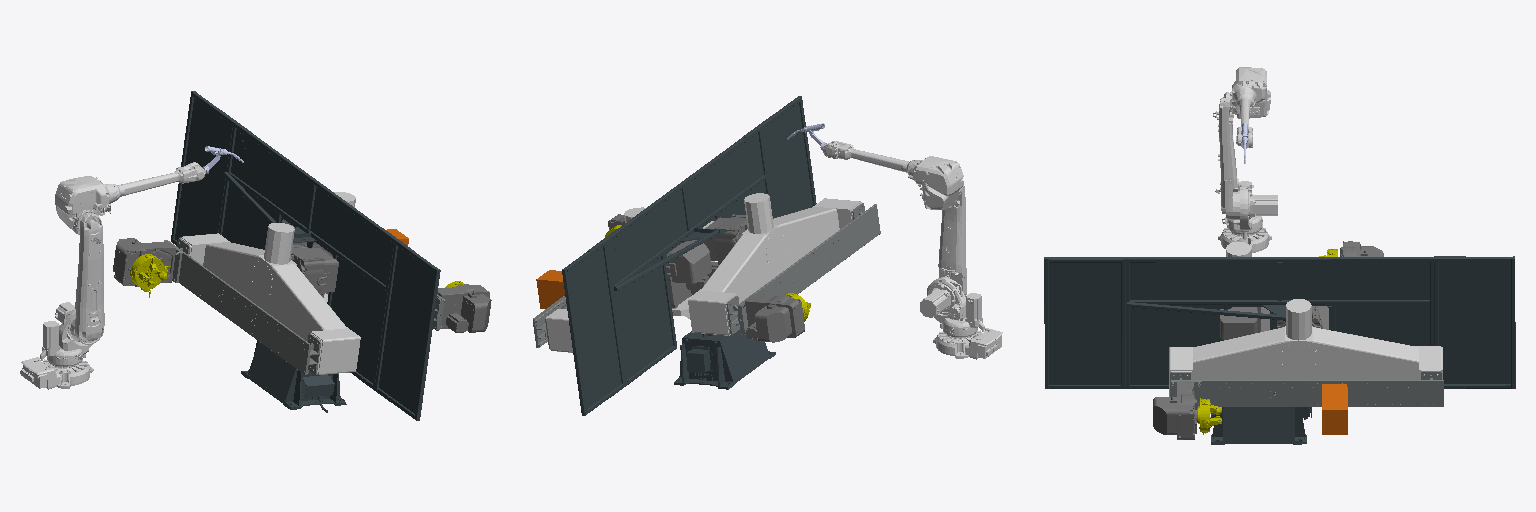
robot.urdf — monarc_irb4600_irbp_d600:
<?xml version="1.0" ?>
<robot name="monarc_irb4600_irbp_d600">
  <!-- MONARC cell: ABB IRB 4600-20/2.50 + IRBP D600 L2000 D1200 (2 stations). Generated by build_meshes.py + build_urdf.py. Do not hand-edit; see tgs_urdf_from_robotstudio_v1.md for the provenance of every number. -->
  <link name="base"/>
  <link name="linear_rail"/>
  <link name="base_link">
    <visual>
      <origin xyz="0 0 0" rpy="0 0 0"/>
      <geometry>
        <mesh filename="meshes/abb_base_m.stl"/>
      </geometry>
      <material name="base_link_material">
        <color rgba="0.8431 0.8431 0.8431 1.0"/>
      </material>
    </visual>
    <collision>
      <origin xyz="0 0 0" rpy="0 0 0"/>
      <geometry>
        <mesh filename="meshes/abb_base_m.stl"/>
      </geometry>
    </collision>
  </link>
  <link name="link_1">
    <visual>
      <origin xyz="0 0 0" rpy="0 0 0"/>
      <geometry>
        <mesh filename="meshes/abb_link_1_m.stl"/>
      </geometry>
      <material name="link_1_material">
        <color rgba="0.8431 0.8431 0.8431 1.0"/>
      </material>
    </visual>
    <collision>
      <origin xyz="0 0 0" rpy="0 0 0"/>
      <geometry>
        <mesh filename="meshes/abb_link_1_m.stl"/>
      </geometry>
    </collision>
  </link>
  <link name="link_2">
    <visual>
      <origin xyz="0 0 0" rpy="0 0 0"/>
      <geometry>
        <mesh filename="meshes/abb_link_2_m.stl"/>
      </geometry>
      <material name="link_2_material">
        <color rgba="0.8431 0.8431 0.8431 1.0"/>
      </material>
    </visual>
    <collision>
      <origin xyz="0 0 0" rpy="0 0 0"/>
      <geometry>
        <mesh filename="meshes/abb_link_2_m.stl"/>
      </geometry>
    </collision>
  </link>
  <link name="link_3">
    <visual>
      <origin xyz="0 0 0" rpy="0 0 0"/>
      <geometry>
        <mesh filename="meshes/abb_link_3_m.stl"/>
      </geometry>
      <material name="link_3_material">
        <color rgba="0.8431 0.8431 0.8431 1.0"/>
      </material>
    </visual>
    <collision>
      <origin xyz="0 0 0" rpy="0 0 0"/>
      <geometry>
        <mesh filename="meshes/abb_link_3_m.stl"/>
      </geometry>
    </collision>
  </link>
  <link name="link_4">
    <visual>
      <origin xyz="0 0 0" rpy="0 0 0"/>
      <geometry>
        <mesh filename="meshes/abb_link_4_m.stl"/>
      </geometry>
      <material name="link_4_material">
        <color rgba="0.8431 0.8431 0.8431 1.0"/>
      </material>
    </visual>
    <collision>
      <origin xyz="0 0 0" rpy="0 0 0"/>
      <geometry>
        <mesh filename="meshes/abb_link_4_m.stl"/>
      </geometry>
    </collision>
  </link>
  <link name="link_5">
    <visual>
      <origin xyz="0 0 0" rpy="0 0 0"/>
      <geometry>
        <mesh filename="meshes/abb_link_5_m.stl"/>
      </geometry>
      <material name="link_5_material">
        <color rgba="0.8431 0.8431 0.8431 1.0"/>
      </material>
    </visual>
    <collision>
      <origin xyz="0 0 0" rpy="0 0 0"/>
      <geometry>
        <mesh filename="meshes/abb_link_5_m.stl"/>
      </geometry>
    </collision>
  </link>
  <link name="link_6">
    <visual>
      <origin xyz="0 0 0" rpy="0 0 0"/>
      <geometry>
        <mesh filename="meshes/abb_link_6_m.stl"/>
      </geometry>
      <material name="link_6_material">
        <color rgba="0.8431 0.8431 0.8431 1.0"/>
      </material>
    </visual>
    <collision>
      <origin xyz="0 0 0" rpy="0 0 0"/>
      <geometry>
        <mesh filename="meshes/abb_link_6_m.stl"/>
      </geometry>
    </collision>
  </link>
  <link name="flange"/>
  <link name="tool0"/>
  <link name="torch">
    <visual>
      <origin xyz="0 0 0" rpy="0 0 0"/>
      <geometry>
        <mesh filename="meshes/torch_m.stl"/>
      </geometry>
      <material name="torch_material">
        <color rgba="0.7922 0.8196 0.9333 1.0"/>
      </material>
    </visual>
    <collision>
      <origin xyz="0 0 0" rpy="0 0 0"/>
      <geometry>
        <mesh filename="meshes/torch_m.stl"/>
      </geometry>
    </collision>
  </link>
  <link name="tcp_torch"/>
  <link name="positioner_base">
    <visual>
      <origin xyz="0 0 0" rpy="0 0 0"/>
      <geometry>
        <mesh filename="meshes/pos_interchange_base_m.stl"/>
      </geometry>
      <material name="positioner_base_material">
        <color rgba="0.2824 0.3294 0.349 1.0"/>
      </material>
    </visual>
    <collision>
      <origin xyz="0 0 0" rpy="0 0 0"/>
      <geometry>
        <mesh filename="meshes/pos_interchange_base_m.stl"/>
      </geometry>
    </collision>
  </link>
  <link name="positioner_index"/>
  <link name="pos_turntable">
    <visual>
      <origin xyz="0 0 0" rpy="0 0 0"/>
      <geometry>
        <mesh filename="meshes/pos_turntable_m.stl"/>
      </geometry>
      <material name="pos_turntable_material">
        <color rgba="0.8431 0.8431 0.8431 1.0"/>
      </material>
    </visual>
    <collision>
      <origin xyz="0 0 0" rpy="0 0 0"/>
      <geometry>
        <mesh filename="meshes/pos_turntable_m.stl"/>
      </geometry>
    </collision>
  </link>
  <link name="pos_bearing_stn1">
    <visual>
      <origin xyz="0 0 0" rpy="0 0 0"/>
      <geometry>
        <mesh filename="meshes/pos_bearing_stn1_m.stl"/>
      </geometry>
      <material name="pos_bearing_stn1_material">
        <color rgba="0.498 0.498 0.498 1.0"/>
      </material>
    </visual>
    <collision>
      <origin xyz="0 0 0" rpy="0 0 0"/>
      <geometry>
        <mesh filename="meshes/pos_bearing_stn1_m.stl"/>
      </geometry>
    </collision>
  </link>
  <link name="pos_bearing_stn2">
    <visual>
      <origin xyz="0 0 0" rpy="0 0 0"/>
      <geometry>
        <mesh filename="meshes/pos_bearing_stn2_m.stl"/>
      </geometry>
      <material name="pos_bearing_stn2_material">
        <color rgba="0.498 0.498 0.498 1.0"/>
      </material>
    </visual>
    <collision>
      <origin xyz="0 0 0" rpy="0 0 0"/>
      <geometry>
        <mesh filename="meshes/pos_bearing_stn2_m.stl"/>
      </geometry>
    </collision>
  </link>
  <link name="pos_cover">
    <visual>
      <origin xyz="0 0 0" rpy="0 0 0"/>
      <geometry>
        <mesh filename="meshes/pos_cover_m.stl"/>
      </geometry>
      <material name="pos_cover_material">
        <color rgba="0.2824 0.3294 0.349 1.0"/>
      </material>
    </visual>
    <collision>
      <origin xyz="0 0 0" rpy="0 0 0"/>
      <geometry>
        <mesh filename="meshes/pos_cover_m.stl"/>
      </geometry>
    </collision>
  </link>
  <link name="stn1_tilt"/>
  <link name="stn1_arm">
    <visual>
      <origin xyz="0 0 0" rpy="0 0 0"/>
      <geometry>
        <mesh filename="meshes/stn1_arm_m.stl"/>
      </geometry>
      <material name="stn1_arm_material">
        <color rgba="0.8431 0.8431 0.8431 1.0"/>
      </material>
    </visual>
    <collision>
      <origin xyz="0 0 0" rpy="0 0 0"/>
      <geometry>
        <mesh filename="meshes/stn1_arm_m.stl"/>
      </geometry>
    </collision>
  </link>
  <link name="stn1_bed">
    <visual>
      <origin xyz="0 0 0" rpy="0 0 0"/>
      <geometry>
        <mesh filename="meshes/stn1_bed_m.stl"/>
      </geometry>
      <material name="stn1_bed_material">
        <color rgba="0.5294 0.549 0.549 1.0"/>
      </material>
    </visual>
    <collision>
      <origin xyz="0 0 0" rpy="0 0 0"/>
      <geometry>
        <mesh filename="meshes/stn1_bed_m.stl"/>
      </geometry>
    </collision>
  </link>
  <link name="stn1_rotate_drive">
    <visual>
      <origin xyz="0 0 0" rpy="0 0 0"/>
      <geometry>
        <mesh filename="meshes/stn1_rotate_drive_m.stl"/>
      </geometry>
      <material name="stn1_rotate_drive_material">
        <color rgba="0.498 0.498 0.498 1.0"/>
      </material>
    </visual>
    <collision>
      <origin xyz="0 0 0" rpy="0 0 0"/>
      <geometry>
        <mesh filename="meshes/stn1_rotate_drive_m.stl"/>
      </geometry>
    </collision>
  </link>
  <link name="stn1_plate">
    <visual>
      <origin xyz="0 0 0" rpy="0 0 0"/>
      <geometry>
        <mesh filename="meshes/stn1_headstock_m.stl"/>
      </geometry>
      <material name="stn1_plate_material">
        <color rgba="0.7529 0.7529 0 1.0"/>
      </material>
    </visual>
    <collision>
      <origin xyz="0 0 0" rpy="0 0 0"/>
      <geometry>
        <mesh filename="meshes/stn1_headstock_m.stl"/>
      </geometry>
    </collision>
  </link>
  <link name="stn2_tilt"/>
  <link name="stn2_arm">
    <visual>
      <origin xyz="0 0 0" rpy="0 0 0"/>
      <geometry>
        <mesh filename="meshes/stn2_arm_m.stl"/>
      </geometry>
      <material name="stn2_arm_material">
        <color rgba="0.8431 0.8431 0.8431 1.0"/>
      </material>
    </visual>
    <collision>
      <origin xyz="0 0 0" rpy="0 0 0"/>
      <geometry>
        <mesh filename="meshes/stn2_arm_m.stl"/>
      </geometry>
    </collision>
  </link>
  <link name="stn2_bed">
    <visual>
      <origin xyz="0 0 0" rpy="0 0 0"/>
      <geometry>
        <mesh filename="meshes/stn2_bed_m.stl"/>
      </geometry>
      <material name="stn2_bed_material">
        <color rgba="0.5294 0.549 0.549 1.0"/>
      </material>
    </visual>
    <collision>
      <origin xyz="0 0 0" rpy="0 0 0"/>
      <geometry>
        <mesh filename="meshes/stn2_bed_m.stl"/>
      </geometry>
    </collision>
  </link>
  <link name="stn2_rotate_drive">
    <visual>
      <origin xyz="0 0 0" rpy="0 0 0"/>
      <geometry>
        <mesh filename="meshes/stn2_rotate_drive_m.stl"/>
      </geometry>
      <material name="stn2_rotate_drive_material">
        <color rgba="0.498 0.498 0.498 1.0"/>
      </material>
    </visual>
    <collision>
      <origin xyz="0 0 0" rpy="0 0 0"/>
      <geometry>
        <mesh filename="meshes/stn2_rotate_drive_m.stl"/>
      </geometry>
    </collision>
  </link>
  <link name="stn2_plate">
    <visual>
      <origin xyz="0 0 0" rpy="0 0 0"/>
      <geometry>
        <mesh filename="meshes/stn2_headstock_m.stl"/>
      </geometry>
      <material name="stn2_plate_material">
        <color rgba="0.7529 0.7529 0 1.0"/>
      </material>
    </visual>
    <collision>
      <origin xyz="0 0 0" rpy="0 0 0"/>
      <geometry>
        <mesh filename="meshes/stn2_headstock_m.stl"/>
      </geometry>
    </collision>
  </link>
  <link name="stn1_tailstock">
    <visual>
      <origin xyz="0 0 0" rpy="0 0 0"/>
      <geometry>
        <mesh filename="meshes/stn1_tailstock_m.stl"/>
      </geometry>
      <material name="stn1_tailstock_material">
        <color rgba="0.85 0.45 0.1 1.0"/>
      </material>
    </visual>
    <collision>
      <origin xyz="0 0 0" rpy="0 0 0"/>
      <geometry>
        <mesh filename="meshes/stn1_tailstock_m.stl"/>
      </geometry>
    </collision>
  </link>
  <link name="stn2_tailstock">
    <visual>
      <origin xyz="0 0 0" rpy="0 0 0"/>
      <geometry>
        <mesh filename="meshes/stn2_tailstock_m.stl"/>
      </geometry>
      <material name="stn2_tailstock_material">
        <color rgba="0.85 0.45 0.1 1.0"/>
      </material>
    </visual>
    <collision>
      <origin xyz="0 0 0" rpy="0 0 0"/>
      <geometry>
        <mesh filename="meshes/stn2_tailstock_m.stl"/>
      </geometry>
    </collision>
  </link>
  <joint name="linear_rail_joint" type="prismatic">
    <origin xyz="0 0 0" rpy="0 0 0"/>
    <parent link="base"/>
    <child link="linear_rail"/>
    <axis xyz="0 1 0"/>
    <limit lower="0" upper="0" effort="0" velocity="3.141593"/>
  </joint>
  <joint name="linear_rail_to_base_link" type="fixed">
    <origin xyz="0 0 0" rpy="0 0 0"/>
    <parent link="linear_rail"/>
    <child link="base_link"/>
  </joint>
  <joint name="joint_1" type="revolute">
    <origin xyz="0 0 0.495" rpy="0 0 0"/>
    <parent link="base_link"/>
    <child link="link_1"/>
    <axis xyz="0 0 1"/>
    <limit lower="-3.14159265" upper="3.14159265" effort="0" velocity="3.141593"/>
  </joint>
  <joint name="joint_2" type="revolute">
    <origin xyz="0.175 0 0" rpy="-1.57079633 -1.57079633 0"/>
    <parent link="link_1"/>
    <child link="link_2"/>
    <axis xyz="0 0 1"/>
    <limit lower="-1.57079633" upper="2.61799388" effort="0" velocity="3.141593"/>
  </joint>
  <joint name="joint_3" type="revolute">
    <origin xyz="1.095 0 0" rpy="0 0 0"/>
    <parent link="link_2"/>
    <child link="link_3"/>
    <axis xyz="0 0 1"/>
    <limit lower="-3.14159265" upper="1.30899694" effort="0" velocity="3.141593"/>
  </joint>
  <joint name="joint_4" type="revolute">
    <origin xyz="0.175 1.2305 0" rpy="-1.57079633 0 0"/>
    <parent link="link_3"/>
    <child link="link_4"/>
    <axis xyz="0 0 1"/>
    <limit lower="-6.98131701" upper="6.98131701" effort="0" velocity="3.141593"/>
  </joint>
  <joint name="joint_5" type="revolute">
    <origin xyz="0 0 0" rpy="-1.57079633 0 3.14159265"/>
    <parent link="link_4"/>
    <child link="link_5"/>
    <axis xyz="0 0 1"/>
    <limit lower="-2.0943951" upper="2.0943951" effort="0" velocity="3.141593"/>
  </joint>
  <joint name="joint_6" type="revolute">
    <origin xyz="0 0 0" rpy="1.57079633 0 0"/>
    <parent link="link_5"/>
    <child link="link_6"/>
    <axis xyz="0 0 1"/>
    <limit lower="-6.98131701" upper="6.98131701" effort="0" velocity="3.141593"/>
  </joint>
  <joint name="link_6-flange" type="fixed">
    <origin xyz="0 0 0.085" rpy="0 0 0"/>
    <parent link="link_6"/>
    <child link="flange"/>
  </joint>
  <joint name="flange-tool0" type="fixed">
    <origin xyz="0 0 0" rpy="0 0 0"/>
    <parent link="flange"/>
    <child link="tool0"/>
  </joint>
  <joint name="tool0-torch" type="fixed">
    <origin xyz="0 0 0" rpy="0 0 0"/>
    <parent link="tool0"/>
    <child link="torch"/>
  </joint>
  <joint name="tool0-tcp_torch" type="fixed">
    <origin xyz="0.0272 0 0.4344" rpy="0 0.785398163 0"/>
    <parent link="tool0"/>
    <child link="tcp_torch"/>
  </joint>
  <joint name="base-positioner_base" type="fixed">
    <origin xyz="1.222672 0.794993 -0.576539" rpy="0.000587 0.147569 0.002287"/>
    <parent link="base"/>
    <child link="positioner_base"/>
  </joint>
  <joint name="positioner_index_joint" type="fixed">
    <origin xyz="1.31 -0.568 1.25" rpy="0 -0 1.57079633"/>
    <parent link="positioner_base"/>
    <child link="positioner_index"/>
  </joint>
  <joint name="stn1_tilt_joint" type="fixed">
    <origin xyz="0.288 -1.31 0" rpy="1.57079633 1.57079633 0"/>
    <parent link="positioner_index"/>
    <child link="stn1_tilt"/>
  </joint>
  <joint name="stn1_plate_joint" type="fixed">
    <origin xyz="0.25 0 0" rpy="-1.57079633 -0 0"/>
    <parent link="stn1_tilt"/>
    <child link="stn1_plate"/>
  </joint>
  <joint name="stn2_tilt_joint" type="revolute">
    <origin xyz="-0.288 1.309 0" rpy="-1.57079633 1.57079633 0"/>
    <parent link="positioner_index"/>
    <child link="stn2_tilt"/>
    <axis xyz="0 0 1"/>
    <limit lower="-3.15904595" upper="3.15904595" effort="0" velocity="3.141593"/>
  </joint>
  <joint name="stn2_plate_joint" type="revolute">
    <origin xyz="0.25 0 0" rpy="-1.57079633 0 0"/>
    <parent link="stn2_tilt"/>
    <child link="stn2_plate"/>
    <axis xyz="0 0 1"/>
    <limit lower="-20" upper="20" effort="0" velocity="3.141593"/>
  </joint>
  <joint name="stn1_tailstock_joint" type="fixed">
    <origin xyz="0.25 0.344 0" rpy="0 0 0"/>
    <parent link="stn1_tilt"/>
    <child link="stn1_tailstock"/>
  </joint>
  <joint name="stn2_tailstock_joint" type="prismatic">
    <origin xyz="0.25 -0.856 0" rpy="0 0 0"/>
    <parent link="stn2_tilt"/>
    <child link="stn2_tailstock"/>
    <axis xyz="0 1 0"/>
    <limit lower="-2.5" upper="2.5" effort="0" velocity="3.141593"/>
  </joint>
  <joint name="positioner_index-pos_turntable" type="fixed">
    <origin xyz="0 0 0" rpy="0 0 0"/>
    <parent link="positioner_index"/>
    <child link="pos_turntable"/>
  </joint>
  <joint name="positioner_index-pos_bearing_stn1" type="fixed">
    <origin xyz="0 0 0" rpy="0 0 0"/>
    <parent link="positioner_index"/>
    <child link="pos_bearing_stn1"/>
  </joint>
  <joint name="positioner_index-pos_bearing_stn2" type="fixed">
    <origin xyz="0 0 0" rpy="0 0 0"/>
    <parent link="positioner_index"/>
    <child link="pos_bearing_stn2"/>
  </joint>
  <joint name="positioner_index-pos_cover" type="fixed">
    <origin xyz="0 0 0" rpy="0 0 0"/>
    <parent link="positioner_index"/>
    <child link="pos_cover"/>
  </joint>
  <joint name="stn1_tilt-stn1_arm" type="fixed">
    <origin xyz="0 0 0" rpy="0 0 0"/>
    <parent link="stn1_tilt"/>
    <child link="stn1_arm"/>
  </joint>
  <joint name="stn1_tilt-stn1_bed" type="fixed">
    <origin xyz="0 0 0" rpy="0 0 0"/>
    <parent link="stn1_tilt"/>
    <child link="stn1_bed"/>
  </joint>
  <joint name="stn1_tilt-stn1_rotate_drive" type="fixed">
    <origin xyz="0 0 0" rpy="0 0 0"/>
    <parent link="stn1_tilt"/>
    <child link="stn1_rotate_drive"/>
  </joint>
  <joint name="stn2_tilt-stn2_arm" type="fixed">
    <origin xyz="0 0 0" rpy="0 0 0"/>
    <parent link="stn2_tilt"/>
    <child link="stn2_arm"/>
  </joint>
  <joint name="stn2_tilt-stn2_bed" type="fixed">
    <origin xyz="0 0 0" rpy="0 0 0"/>
    <parent link="stn2_tilt"/>
    <child link="stn2_bed"/>
  </joint>
  <joint name="stn2_tilt-stn2_rotate_drive" type="fixed">
    <origin xyz="0 0 0" rpy="0 0 0"/>
    <parent link="stn2_tilt"/>
    <child link="stn2_rotate_drive"/>
  </joint>
</robot>

--- Facts derived from the render (not from the file) ---
Views: 3 orthographic renders of the robot side by side, from view 1: azimuth 30°, elevation 25°; view 2: azimuth 150°, elevation 25°; view 3: azimuth 270°, elevation 25°.
Robot: monarc_irb4600_irbp_d600 — 31 links, 30 joints (8 revolute, 2 prismatic, 20 fixed); root link base; default pose: every joint at zero.
Visible links, largest first — view 1: pos_cover, stn2_arm, stn2_bed, positioner_base, link_2, link_3, stn1_rotate_drive, link_1, stn2_rotate_drive, base_link, pos_bearing_stn2, link_4 (+1 smaller); view 2: pos_cover, stn2_arm, stn2_bed, positioner_base, link_1, stn2_rotate_drive, link_3, link_2, pos_bearing_stn1, base_link, pos_bearing_stn2, stn1_arm (+3 smaller); view 3: pos_cover, stn1_arm, stn1_bed, positioner_base, stn1_rotate_drive, link_2, link_1, link_3, stn1_tailstock, pos_bearing_stn2, stn2_arm, base_link (+2 smaller).
Link boxes in pixels (left/top/right/bottom): pos_cover: left=171, top=91, right=440, bottom=420; stn2_arm: left=180, top=223, right=360, bottom=374; stn2_bed: left=164, top=238, right=320, bottom=374; positioner_base: left=241, top=340, right=346, bottom=412; link_2: left=75, top=213, right=104, bottom=344; link_3: left=55, top=176, right=116, bottom=234; stn1_rotate_drive: left=437, top=284, right=491, bottom=332; link_1: left=40, top=302, right=92, bottom=367; stn2_rotate_drive: left=113, top=238, right=176, bottom=286; base_link: left=20, top=357, right=93, bottom=389; pos_bearing_stn2: left=291, top=244, right=338, bottom=297; link_4: left=113, top=162, right=205, bottom=200; pos_cover: left=562, top=96, right=816, bottom=415; stn2_arm: left=688, top=193, right=861, bottom=335; stn2_bed: left=726, top=203, right=880, bottom=334; positioner_base: left=674, top=330, right=775, bottom=389; link_1: left=920, top=275, right=984, bottom=338; stn2_rotate_drive: left=745, top=294, right=804, bottom=342; link_3: left=908, top=156, right=963, bottom=209; link_2: left=938, top=185, right=966, bottom=296; pos_bearing_stn1: left=665, top=240, right=711, bottom=307; base_link: left=933, top=328, right=1002, bottom=359; pos_bearing_stn2: left=697, top=214, right=747, bottom=277; stn1_arm: left=546, top=207, right=714, bottom=352; pos_cover: left=1044, top=256, right=1515, bottom=388; stn1_arm: left=1169, top=299, right=1442, bottom=396; stn1_bed: left=1170, top=371, right=1443, bottom=407; positioner_base: left=1199, top=407, right=1311, bottom=444; stn1_rotate_drive: left=1153, top=381, right=1197, bottom=439; link_2: left=1213, top=92, right=1238, bottom=219; link_1: left=1222, top=181, right=1277, bottom=238; link_3: left=1230, top=67, right=1270, bottom=118; stn1_tailstock: left=1322, top=384, right=1347, bottom=434; pos_bearing_stn2: left=1220, top=307, right=1260, bottom=339; stn2_arm: left=1226, top=242, right=1328, bottom=331; base_link: left=1218, top=216, right=1271, bottom=252.
Size in the robot's own frame: 4.57 by 4.54 by 2.82 metres.
22 mesh visuals loaded from 23 distinct referenced files (22 binary STL); not drawn: 1 (reference not matched to a file when rendering).
